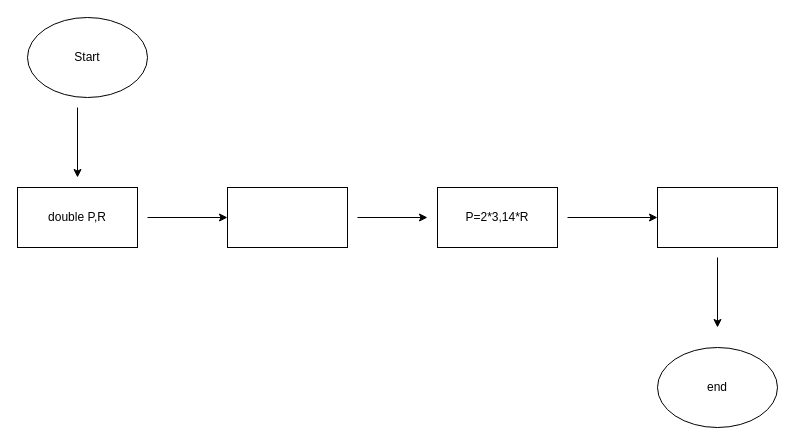
The diagram is 795 pixels wide and 445 high, and some of its shapes have lost their labels. The box of each missing label's shape, as (x1, y1, x2, y2) in pixels:
Nhập giá trị R: (226, 186, 348, 248)
xuất màn hình: (656, 186, 778, 248)
